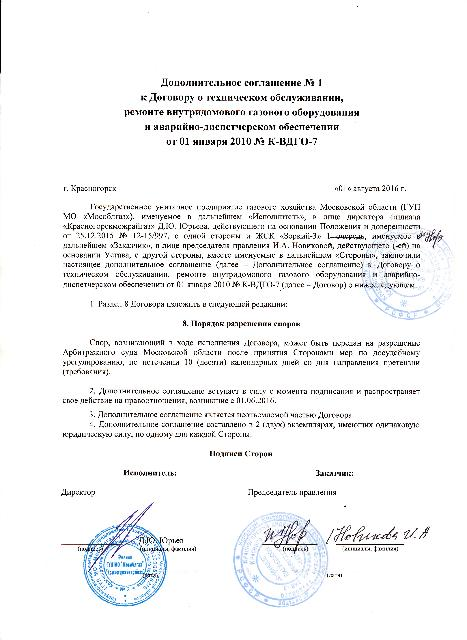stamp: (232, 512, 325, 608), (362, 230, 458, 318), (82, 525, 166, 607)
